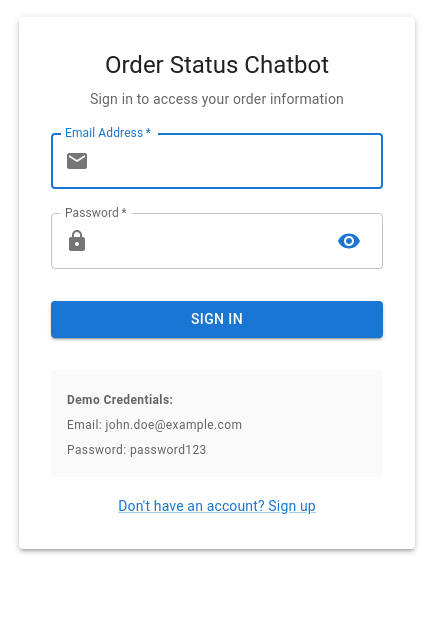
it: Login Component › handles login error
In the field labelled "Email Address *": x=240, y=161 [97,133,383,189], type "john.doe@example.com"
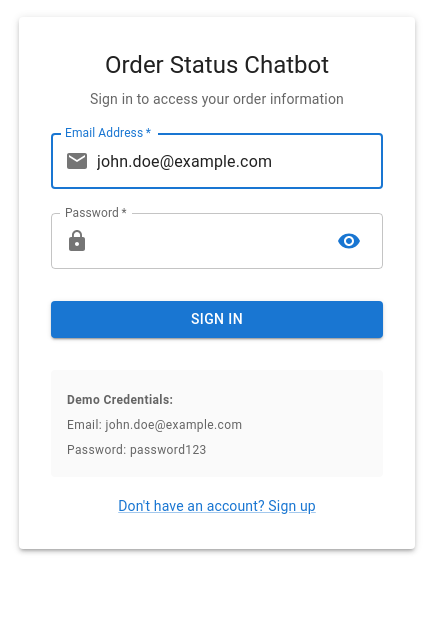
In the password field labelled "Password *": x=209, y=241 [97,213,321,269], type "wrongpassword"
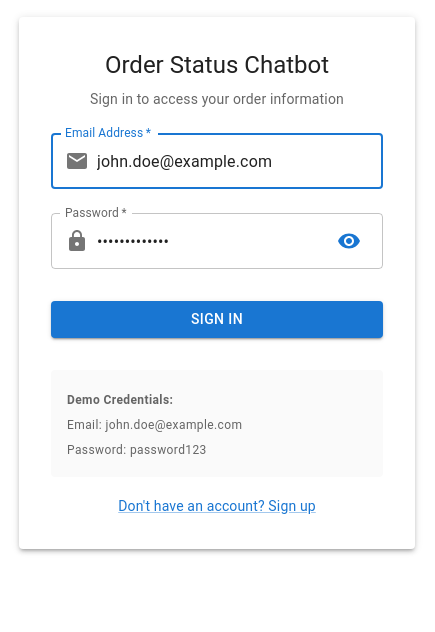
Click the button "Sign In": x=217, y=320 [51,301,383,338]
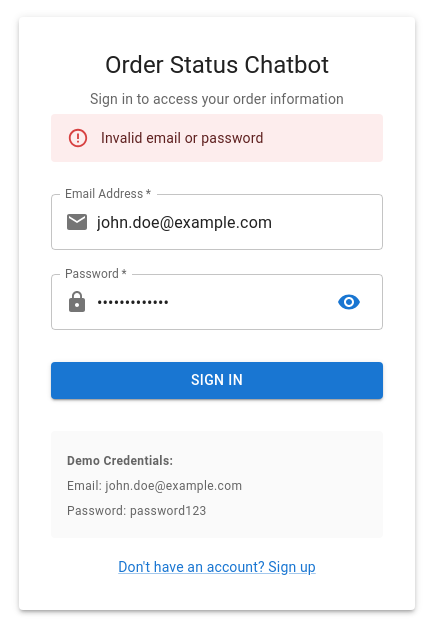
Now the text "Invalid email or password" is shown, box [101,130,264,146]
